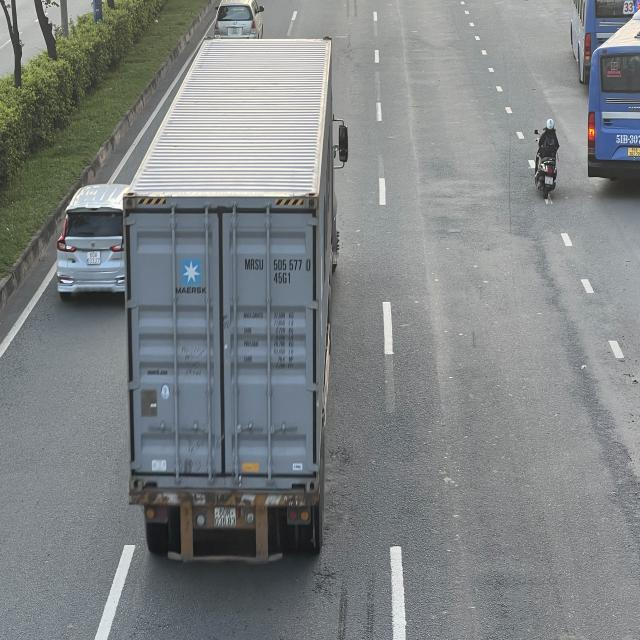car: (55, 182, 128, 298), (213, 0, 262, 39)
coach: (588, 4, 637, 182), (569, 0, 637, 80)
container: (129, 39, 352, 577)
